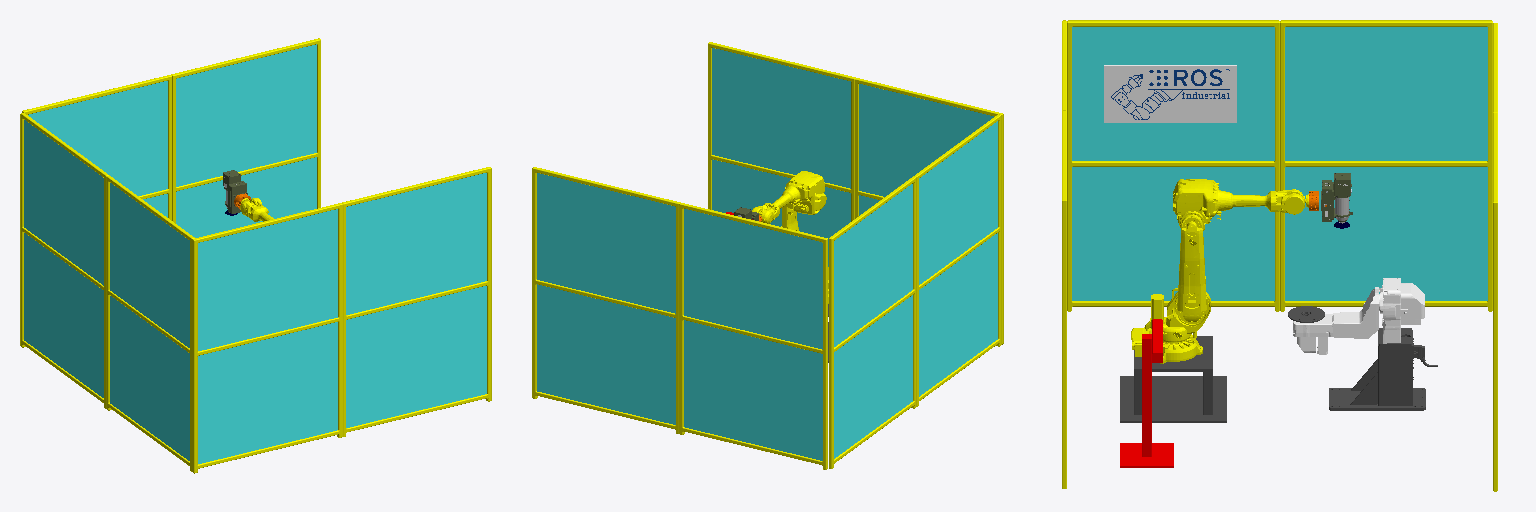
--- What the picture shows (computed from the rendered views, not written in the file) ---
The picture shows the robot from 3 angles, left to right: view 1: azimuth 30°, elevation 25°; view 2: azimuth 150°, elevation 25°; view 3: azimuth 270°, elevation 25°; orthographic projection.
Model tesseract_workcell_positioner with 51 links and 50 joints (8 revolute, 1 prismatic, 41 fixed), rooted at world, posed every joint at zero.
Visible links, largest first — view 1: fence_panel3_base_link, fence_panel5_base_link, fence_panel6_base_link, fence_panel1_base_link, fence_panel2_base_link, fence_panel4_base_link; view 2: fence_panel4_base_link, fence_panel6_base_link, fence_panel5_base_link, fence_panel2_base_link, fence_panel1_base_link, fence_panel3_base_link, robot_link_3, robot_link_4; view 3: fence_panel2_base_link, fence_panel1_base_link, logo_base_link, positioner_base_link, pedestal_base_link, ati_stand_base_link, robot_link_2, positioner_link_1, robot_link_3, fence_panel5_base_link, fence_panel6_base_link, robot_link_1 (+3 smaller).
Link boxes in pixels (x1,y1,x2,y2): fence_panel3_base_link: (192,203,342,473); fence_panel5_base_link: (342,167,491,436); fence_panel6_base_link: (171,38,320,237); fence_panel1_base_link: (106,175,194,471); fence_panel2_base_link: (20,113,108,408); fence_panel4_base_link: (22,75,171,220); fence_panel4_base_link: (679,203,827,469); fence_panel6_base_link: (532,167,680,433); fence_panel5_base_link: (708,42,855,266); fence_panel2_base_link: (829,176,916,468); fence_panel1_base_link: (914,114,1000,406); fence_panel3_base_link: (855,78,1003,344); robot_link_3: (785,171,826,214); robot_link_4: (752,190,794,223); fence_panel2_base_link: (1280,20,1492,311); fence_panel1_base_link: (1067,20,1279,311); logo_base_link: (1104,65,1236,122); positioner_base_link: (1329,278,1437,410); pedestal_base_link: (1120,336,1226,422); ati_stand_base_link: (1120,319,1173,467); robot_link_2: (1177,215,1206,325); positioner_link_1: (1293,287,1379,354); robot_link_3: (1173,179,1226,230); fence_panel5_base_link: (1062,110,1066,488); fence_panel6_base_link: (1493,113,1497,491); robot_link_1: (1145,288,1211,343).
Bounding box of the posed robot: 4.05 × 4.1 × 3 m (x, y, z).
Meshes: 23 distinct files referenced, 25 mesh visuals loaded (20 Collada DAE); not drawn: 4 (reference not matched to a file when rendering).

URDF robot description (tesseract_workcell_positioner):
<?xml version="1.0" ?>
<!-- =================================================================================== -->
<!-- |    This document was autogenerated by xacro from workcell_positioner.xacro      | -->
<!-- |    EDITING THIS FILE BY HAND IS NOT RECOMMENDED                                 | -->
<!-- =================================================================================== -->
<robot name="tesseract_workcell_positioner">
  <!-- link list -->
  <link name="ati_qc110m_base_link">
    <visual>
      <origin rpy="0 0 0" xyz="0 0 0"/>
      <geometry>
        <mesh filename="package://twc_support/CAD/eoat/ati_qc110m/urdf/visual/base_link.dae"/>
      </geometry>
    </visual>
    <collision>
      <origin rpy="0 0 0" xyz="0 0 0"/>
      <geometry>
        <mesh filename="package://twc_support/CAD/eoat/ati_qc110m/urdf/visual/base_link.dae"/>
      </geometry>
    </collision>
  </link>
  <link name="ati_qc110m_tool0"/>
  <!-- end of link list -->
  <!-- joint list -->
  <joint name="ati_qc110m_base_link_tool0" type="fixed">
    <origin rpy="0 0 0" xyz="0 0 0.05537"/>
    <parent link="ati_qc110m_base_link"/>
    <child link="ati_qc110m_tool0"/>
  </joint>
  <!-- end of joint list -->
  <!-- link list -->
  <link name="ati_qc110f_base_link">
    <visual>
      <origin rpy="0 0 0" xyz="0 0 0"/>
      <geometry>
        <mesh filename="package://twc_support/CAD/eoat/ati_qc110f/urdf/visual/base_link.dae"/>
      </geometry>
    </visual>
    <collision>
      <origin rpy="0 0 0" xyz="0 0 0"/>
      <geometry>
        <mesh filename="package://twc_support/CAD/eoat/ati_qc110f/urdf/visual/base_link.dae"/>
      </geometry>
    </collision>
  </link>
  <link name="ati_qc110f_tool0"/>
  <!-- end of link list -->
  <!-- joint list -->
  <joint name="ati_qc110f_base_link_tool0" type="fixed">
    <origin rpy="0 0 0" xyz="0 0 0.03754"/>
    <parent link="ati_qc110f_base_link"/>
    <child link="ati_qc110f_tool0"/>
  </joint>
  <!-- end of joint list -->
  <!-- link list -->
  <link name="ati_stand_base_link">
    <visual>
      <origin rpy="0 0 0" xyz="0 0 0"/>
      <geometry>
        <mesh filename="package://twc_support/CAD/eoat/ati_9120_stand/urdf/visual/base_link.dae"/>
      </geometry>
    </visual>
    <collision>
      <origin rpy="0 0 0" xyz="0 0 0"/>
      <geometry>
        <mesh filename="package://twc_support/CAD/eoat/ati_9120_stand/urdf/visual/base_link.dae"/>
      </geometry>
    </collision>
  </link>
  <link name="ati_stand_tool0"/>
  <link name="ati_stand_tool1"/>
  <!-- end of link list -->
  <!-- joint list -->
  <joint name="ati_stand_base_link_tool0" type="fixed">
    <origin rpy="0 1.5708 0" xyz="0.150 0.275 1.2"/>
    <parent link="ati_stand_base_link"/>
    <child link="ati_stand_tool0"/>
  </joint>
  <joint name="ati_stand_base_link_tool1" type="fixed">
    <origin rpy="0 1.5708 0" xyz="0.150 -0.275 1.2"/>
    <parent link="ati_stand_base_link"/>
    <child link="ati_stand_tool1"/>
  </joint>
  <!-- end of joint list -->
  <!-- link list -->
  <link name="ati_dock1_base_link">
    <visual>
      <origin rpy="0 0 0" xyz="0 0 0"/>
      <geometry>
        <mesh filename="package://twc_support/CAD/eoat/ati_9120_tsm_mmb_8432/urdf/visual/base_link.dae"/>
      </geometry>
    </visual>
    <collision>
      <origin rpy="0 0 0" xyz="0 0 0"/>
      <geometry>
        <mesh filename="package://twc_support/CAD/eoat/ati_9120_tsm_mmb_8432/urdf/visual/base_link.dae"/>
      </geometry>
    </collision>
  </link>
  <link name="ati_dock1_tool0"/>
  <!-- end of link list -->
  <!-- joint list -->
  <joint name="ati_dock1_base_link_tool0" type="fixed">
    <origin rpy="0 0 0" xyz="0 0.05398 0.01524"/>
    <parent link="ati_dock1_base_link"/>
    <child link="ati_dock1_tool0"/>
  </joint>
  <!-- end of joint list -->
  <!-- link list -->
  <link name="ati_dock2_base_link">
    <visual>
      <origin rpy="0 0 0" xyz="0 0 0"/>
      <geometry>
        <mesh filename="package://twc_support/CAD/eoat/ati_9120_tsm_mmb_8432/urdf/visual/base_link.dae"/>
      </geometry>
    </visual>
    <collision>
      <origin rpy="0 0 0" xyz="0 0 0"/>
      <geometry>
        <mesh filename="package://twc_support/CAD/eoat/ati_9120_tsm_mmb_8432/urdf/visual/base_link.dae"/>
      </geometry>
    </collision>
  </link>
  <link name="ati_dock2_tool0"/>
  <!-- end of link list -->
  <!-- joint list -->
  <joint name="ati_dock2_base_link_tool0" type="fixed">
    <origin rpy="0 0 0" xyz="0 0.05398 0.01524"/>
    <parent link="ati_dock2_base_link"/>
    <child link="ati_dock2_tool0"/>
  </joint>
  <!-- end of joint list -->
  <!-- link list -->
  <link name="ati_dock_base_link">
    <visual>
      <origin rpy="0 0 0" xyz="0 0 0"/>
      <geometry>
        <mesh filename="package://twc_support/CAD/eoat/ati_9120_tsm_hbq_9224/urdf/visual/base_link.dae"/>
      </geometry>
    </visual>
    <collision>
      <origin rpy="0 0 0" xyz="0 0 0"/>
      <geometry>
        <mesh filename="package://twc_support/CAD/eoat/ati_9120_tsm_hbq_9224/urdf/visual/base_link.dae"/>
      </geometry>
    </collision>
  </link>
  <link name="ati_dock_tool0"/>
  <!-- end of link list -->
  <!-- joint list -->
  <joint name="ati_dock_base_link_tool0" type="fixed">
    <origin rpy="0 0 0" xyz="0 0 0.01778"/>
    <parent link="ati_dock_base_link"/>
    <child link="ati_dock_tool0"/>
  </joint>
  <!-- end of joint list -->
  <!-- link list -->
  <link name="pushcorp_afd620_base_link">
    <visual>
      <origin rpy="0 0 0" xyz="0 0 0"/>
      <geometry>
        <mesh filename="package://twc_support/CAD/eoat/pushcorp_afd620/urdf/visual/base_link.dae"/>
      </geometry>
    </visual>
    <collision>
      <origin rpy="0 0 0" xyz="0 0 0"/>
      <geometry>
        <mesh filename="package://twc_support/CAD/eoat/pushcorp_afd620/urdf/visual/base_link.dae"/>
      </geometry>
    </collision>
  </link>
  <link name="pushcorp_afd620_link_1">
    <visual>
      <origin rpy="0 0 0" xyz="0 0 0"/>
      <geometry>
        <mesh filename="package://twc_support/CAD/eoat/pushcorp_afd620/urdf/visual/link_1.dae"/>
      </geometry>
    </visual>
    <collision>
      <origin rpy="0 0 0" xyz="0 0 0"/>
      <geometry>
        <mesh filename="package://twc_support/CAD/eoat/pushcorp_afd620/urdf/visual/link_1.dae"/>
      </geometry>
    </collision>
  </link>
  <link name="pushcorp_afd620_tool0"/>
  <!-- end of link list -->
  <!-- joint list -->
  <joint name="pushcorp_afd620_joint_1" type="prismatic">
    <origin rpy="0 0 0" xyz="0 0 0.08471"/>
    <parent link="pushcorp_afd620_base_link"/>
    <child link="pushcorp_afd620_link_1"/>
    <axis xyz="1 0 0"/>
    <limit effort="0" lower="-0.0254" upper="0.0254" velocity="1.4834"/>
  </joint>
  <joint name="pushcorp_afd620_joint_1_tool0" type="fixed">
    <origin rpy="0 0 0" xyz="0 0 0.03747"/>
    <parent link="pushcorp_afd620_link_1"/>
    <child link="pushcorp_afd620_tool0"/>
  </joint>
  <!-- end of joint list -->
  <!-- link list -->
  <link name="pushcorp_stc1015_base_link">
    <visual>
      <origin rpy="0 0 0" xyz="0 0 0"/>
      <geometry>
        <mesh filename="package://twc_support/CAD/eoat/pushcorp_stc1015/urdf/visual/base_link.dae"/>
      </geometry>
    </visual>
    <collision>
      <origin rpy="0 0 0" xyz="0 0 0"/>
      <geometry>
        <mesh filename="package://twc_support/CAD/eoat/pushcorp_stc1015/urdf/visual/base_link.dae"/>
      </geometry>
    </collision>
  </link>
  <link name="pushcorp_stc1015_tool0"/>
  <!-- end of link list -->
  <!-- joint list -->
  <joint name="pushcorp_stc1015_joint_tool0" type="fixed">
    <origin rpy="0 1.57 0" xyz="0.225 0 0.081695"/>
    <parent link="pushcorp_stc1015_base_link"/>
    <child link="pushcorp_stc1015_tool0"/>
  </joint>
  <!-- end of joint list -->
  <!-- link list -->
  <link name="positioner_base_link">
    <visual>
      <origin rpy="0 0 0" xyz="0 0 0"/>
      <geometry>
        <mesh filename="package://twc_support/CAD/robot/abb_irbpa250_d1000/urdf/visual/base_link.dae"/>
      </geometry>
    </visual>
    <collision>
      <origin rpy="0 0 0" xyz="0 0 0"/>
      <geometry>
        <mesh filename="package://twc_support/CAD/robot/abb_irbpa250_d1000/urdf/visual/base_link.dae"/>
      </geometry>
    </collision>
  </link>
  <link name="positioner_link_1">
    <visual>
      <origin rpy="0 0 0" xyz="0 0 0"/>
      <geometry>
        <mesh filename="package://twc_support/CAD/robot/abb_irbpa250_d1000/urdf/visual/link_1.dae"/>
      </geometry>
    </visual>
    <collision>
      <origin rpy="0 0 0" xyz="0 0 0"/>
      <geometry>
        <mesh filename="package://twc_support/CAD/robot/abb_irbpa250_d1000/urdf/visual/link_1.dae"/>
      </geometry>
    </collision>
  </link>
  <link name="positioner_link_2">
    <visual>
      <origin rpy="0 0 0" xyz="0 0 0"/>
      <geometry>
        <mesh filename="package://twc_support/CAD/robot/abb_irbpa250_d1000/urdf/visual/link_2.dae"/>
      </geometry>
    </visual>
    <collision>
      <origin rpy="0 0 0" xyz="0 0 0"/>
      <geometry>
        <mesh filename="package://twc_support/CAD/robot/abb_irbpa250_d1000/urdf/visual/link_2.dae"/>
      </geometry>
    </collision>
  </link>
  <link name="positioner_tool0"/>
  <!-- end of link list -->
  <!-- joint list -->
  <joint name="positioner_base_joint" type="revolute">
    <origin rpy="0 0 0" xyz="0.733 0 1.020"/>
    <parent link="positioner_base_link"/>
    <child link="positioner_link_1"/>
    <axis xyz="1 0 0"/>
    <limit effort="0" lower="-6.28319" upper="6.28319" velocity="1.4834"/>
  </joint>
  <joint name="positioner_joint_1" type="revolute">
    <origin rpy="0 0 0" xyz="-0.733 0 0"/>
    <parent link="positioner_link_1"/>
    <child link="positioner_link_2"/>
    <axis xyz="0 0 1"/>
    <limit effort="0" lower="-6.28319" upper="6.28319" velocity="1.4834"/>
  </joint>
  <joint name="positioner_joint_2_tool0" type="fixed">
    <origin rpy="0 0 0" xyz="0 0 0.10487"/>
    <parent link="positioner_link_2"/>
    <child link="positioner_tool0"/>
  </joint>
  <!-- end of joint list -->
  <!-- link list -->
  <link name="st_base_link">
    <visual>
      <origin rpy="0 0 0" xyz="0 0 0"/>
      <geometry>
        <mesh filename="package://twc_support/CAD/eoat/bt30_sander/urdf/visual/base_link.dae"/>
      </geometry>
    </visual>
    <collision>
      <origin rpy="0 0 0" xyz="0 0 0"/>
      <geometry>
        <mesh filename="package://twc_support/CAD/eoat/bt30_sander/urdf/visual/base_link.dae"/>
      </geometry>
    </collision>
  </link>
  <link name="st_tool0"/>
  <!-- end of link list -->
  <!-- joint list -->
  <joint name="st_joint_tool0" type="fixed">
    <origin rpy="0 0 0" xyz="0 0 0.07328"/>
    <parent link="st_base_link"/>
    <child link="st_tool0"/>
  </joint>
  <!-- end of joint list -->
  <!-- link list -->
  <link name="robot_base_link">
    <collision name="collision">
      <geometry>
        <mesh filename="package://twc_support/CAD/robot/abb_irb4600_60_205/urdf/collision/base_link.stl"/>
      </geometry>
    </collision>
    <visual name="visual">
      <geometry>
        <mesh filename="package://twc_support/CAD/robot/abb_irb4600_60_205/urdf/visual/base_link.dae"/>
      </geometry>
      <material name="yellow">
        <color rgba="1 1 0 1"/>
      </material>
    </visual>
  </link>
  <link name="robot_link_1">
    <collision name="collision">
      <geometry>
        <mesh filename="package://twc_support/CAD/robot/abb_irb4600_60_205/urdf/collision/link_1.stl"/>
      </geometry>
    </collision>
    <visual name="visual">
      <geometry>
        <mesh filename="package://twc_support/CAD/robot/abb_irb4600_60_205/urdf/visual/link_1.dae"/>
      </geometry>
      <material name="yellow"/>
    </visual>
  </link>
  <link name="robot_link_2">
    <collision name="collision">
      <geometry>
        <mesh filename="package://twc_support/CAD/robot/abb_irb4600_60_205/urdf/collision/link_2.stl"/>
      </geometry>
    </collision>
    <visual name="visual">
      <geometry>
        <mesh filename="package://twc_support/CAD/robot/abb_irb4600_60_205/urdf/visual/link_2.dae"/>
      </geometry>
      <material name="yellow"/>
    </visual>
  </link>
  <link name="robot_link_3">
    <collision name="collision">
      <geometry>
        <mesh filename="package://twc_support/CAD/robot/abb_irb4600_60_205/urdf/collision/link_3.stl"/>
      </geometry>
    </collision>
    <visual name="visual">
      <geometry>
        <mesh filename="package://twc_support/CAD/robot/abb_irb4600_60_205/urdf/visual/link_3.dae"/>
      </geometry>
      <material name="yellow"/>
    </visual>
  </link>
  <link name="robot_link_4">
    <collision name="collision">
      <geometry>
        <mesh filename="package://twc_support/CAD/robot/abb_irb4600_60_205/urdf/collision/link_4.stl"/>
      </geometry>
    </collision>
    <visual name="visual">
      <geometry>
        <mesh filename="package://twc_support/CAD/robot/abb_irb4600_60_205/urdf/visual/link_4.dae"/>
      </geometry>
      <material name="yellow"/>
    </visual>
  </link>
  <link name="robot_link_5">
    <collision name="collision">
      <geometry>
        <mesh filename="package://twc_support/CAD/robot/abb_irb4600_60_205/urdf/collision/link_5.stl"/>
      </geometry>
    </collision>
    <visual name="visual">
      <geometry>
        <mesh filename="package://twc_support/CAD/robot/abb_irb4600_60_205/urdf/visual/link_5.dae"/>
      </geometry>
      <material name="yellow"/>
    </visual>
  </link>
  <link name="robot_link_6">
    <collision name="collision">
      <geometry>
        <mesh filename="package://twc_support/CAD/robot/abb_irb4600_60_205/urdf/collision/link_6.stl"/>
      </geometry>
    </collision>
    <visual name="visual">
      <geometry>
        <mesh filename="package://twc_support/CAD/robot/abb_irb4600_60_205/urdf/visual/link_6.dae"/>
      </geometry>
      <material name="yellow"/>
    </visual>
  </link>
  <link name="robot_tool0"/>
  <!-- end of link list -->
  <!-- joint list -->
  <joint name="robot_joint_1" type="revolute">
    <origin rpy="0 0 0" xyz="0 0 0.495"/>
    <axis xyz="0 0 1"/>
    <parent link="robot_base_link"/>
    <child link="robot_link_1"/>
    <limit effort="0" lower="-3.141" upper="3.141" velocity="3.054"/>
  </joint>
  <joint name="robot_joint_2" type="revolute">
    <origin rpy="0 0 0" xyz="0.175 0 0"/>
    <axis xyz="0 1 0"/>
    <parent link="robot_link_1"/>
    <child link="robot_link_2"/>
    <limit effort="0" lower="-1.570" upper="2.617" velocity="3.054"/>
  </joint>
  <joint name="robot_joint_3" type="revolute">
    <origin rpy="0 0 0" xyz="0 0 0.9"/>
    <axis xyz="0 1 0"/>
    <parent link="robot_link_2"/>
    <child link="robot_link_3"/>
    <limit effort="0" lower="-3.141" upper="1.308" velocity="3.054"/>
  </joint>
  <joint name="robot_joint_4" type="revolute">
    <origin rpy="0 0 0" xyz="0 0 0.175"/>
    <axis xyz="1 0 0"/>
    <parent link="robot_link_3"/>
    <child link="robot_link_4"/>
    <limit effort="0" lower="-6.981" upper="6.981" velocity="4.363"/>
  </joint>
  <joint name="robot_joint_5" type="revolute">
    <origin rpy="0 0 0" xyz="0.960 0 0 "/>
    <axis xyz="0 1 0"/>
    <parent link="robot_link_4"/>
    <child link="robot_link_5"/>
    <limit effort="0" lower="-2.181" upper="2.094" velocity="4.363"/>
  </joint>
  <joint name="robot_joint_6" type="revolute">
    <origin rpy="0 0 0" xyz="0 0 0 "/>
    <axis xyz="1 0 0"/>
    <parent link="robot_link_5"/>
    <child link="robot_link_6"/>
    <limit effort="0" lower="-6.981" upper="6.981" velocity="6.283"/>
  </joint>
  <joint name="robot_joint_6-tool0" type="fixed">
    <parent link="robot_link_6"/>
    <child link="robot_tool0"/>
    <origin rpy="0 1.57079632679 0" xyz="0.135 0 0"/>
  </joint>
  <!-- end of joint list -->
  <!-- ROS base_link to ABB World Coordinates transform -->
  <link name="robot_base"/>
  <joint name="robot_base_link-base" type="fixed">
    <origin rpy="0 0 0" xyz="0 0 0"/>
    <parent link="robot_base_link"/>
    <child link="robot_base"/>
  </joint>
  <!-- link list -->
  <link name="pedestal_base_link">
    <visual>
      <origin rpy="0 0 0" xyz="0 0 0"/>
      <geometry>
        <mesh filename="package://twc_support/CAD/pedestal/pedestal_750mm/urdf/visual/base_link.dae"/>
      </geometry>
    </visual>
    <collision>
      <origin rpy="0 0 0" xyz="0 0 0"/>
      <geometry>
        <mesh filename="package://twc_support/CAD/pedestal/pedestal_750mm/urdf/visual/base_link.dae"/>
      </geometry>
    </collision>
  </link>
  <link name="pedestal_tool0"/>
  <!-- end of link list -->
  <!-- joint list -->
  <joint name="pedestal_base_link_tool0" type="fixed">
    <origin rpy="0 0 0" xyz="0 0 0.5"/>
    <parent link="pedestal_base_link"/>
    <child link="pedestal_tool0"/>
  </joint>
  <!-- end of joint list -->
  <!-- link list -->
  <link name="fence_panel1_base_link">
    <visual>
      <origin rpy="0 0 0" xyz="0 0 0"/>
      <geometry>
        <mesh filename="package://twc_support/CAD/fence/panel_3m_2m_solid/urdf/visual/base_link.dae"/>
      </geometry>
    </visual>
    <collision>
      <origin rpy="0 0 0" xyz="0 0 0"/>
      <geometry>
        <mesh filename="package://twc_support/CAD/fence/panel_3m_2m_solid/urdf/visual/base_link.dae"/>
      </geometry>
    </collision>
  </link>
  <link name="fence_panel1_tool0"/>
  <joint name="fence_panel1_joint_1" type="fixed">
    <origin rpy="0 0 0" xyz="2.0 0 0"/>
    <parent link="fence_panel1_base_link"/>
    <child link="fence_panel1_tool0"/>
  </joint>
  <!-- link list -->
  <link name="fence_panel2_base_link">
    <visual>
      <origin rpy="0 0 0" xyz="0 0 0"/>
      <geometry>
        <mesh filename="package://twc_support/CAD/fence/panel_3m_2m_solid/urdf/visual/base_link.dae"/>
      </geometry>
    </visual>
    <collision>
      <origin rpy="0 0 0" xyz="0 0 0"/>
      <geometry>
        <mesh filename="package://twc_support/CAD/fence/panel_3m_2m_solid/urdf/visual/base_link.dae"/>
      </geometry>
    </collision>
  </link>
  <link name="fence_panel2_tool0"/>
  <joint name="fence_panel2_joint_1" type="fixed">
    <origin rpy="0 0 0" xyz="2.0 0 0"/>
    <parent link="fence_panel2_base_link"/>
    <child link="fence_panel2_tool0"/>
  </joint>
  <!-- link list -->
  <link name="fence_panel3_base_link">
    <visual>
      <origin rpy="0 0 0" xyz="0 0 0"/>
      <geometry>
        <mesh filename="package://twc_support/CAD/fence/panel_3m_2m_solid/urdf/visual/base_link.dae"/>
      </geometry>
    </visual>
    <collision>
      <origin rpy="0 0 0" xyz="0 0 0"/>
      <geometry>
        <mesh filename="package://twc_support/CAD/fence/panel_3m_2m_solid/urdf/visual/base_link.dae"/>
      </geometry>
    </collision>
  </link>
  <link name="fence_panel3_tool0"/>
  <joint name="fence_panel3_joint_1" type="fixed">
    <origin rpy="0 0 0" xyz="2.0 0 0"/>
    <parent link="fence_panel3_base_link"/>
    <child link="fence_panel3_tool0"/>
  </joint>
  <!-- link list -->
  <link name="fence_panel4_base_link">
    <visual>
      <origin rpy="0 0 0" xyz="0 0 0"/>
      <geometry>
        <mesh filename="package://twc_support/CAD/fence/panel_3m_2m_solid/urdf/visual/base_link.dae"/>
      </geometry>
    </visual>
    <collision>
      <origin rpy="0 0 0" xyz="0 0 0"/>
      <geometry>
        <mesh filename="package://twc_support/CAD/fence/panel_3m_2m_solid/urdf/visual/base_link.dae"/>
      </geometry>
    </collision>
  </link>
  <link name="fence_panel4_tool0"/>
  <joint name="fence_panel4_joint_1" type="fixed">
    <origin rpy="0 0 0" xyz="2.0 0 0"/>
    <parent link="fence_panel4_base_link"/>
    <child link="fence_panel4_tool0"/>
  </joint>
  <!-- link list -->
  <link name="fence_panel5_base_link">
    <visual>
      <origin rpy="0 0 0" xyz="0 0 0"/>
      <geometry>
        <mesh filename="package://twc_support/CAD/fence/panel_3m_2m_solid/urdf/visual/base_link.dae"/>
      </geometry>
    </visual>
    <collision>
      <origin rpy="0 0 0" xyz="0 0 0"/>
      <geometry>
        <mesh filename="package://twc_support/CAD/fence/panel_3m_2m_solid/urdf/visual/base_link.dae"/>
      </geometry>
    </collision>
  </link>
  <link name="fence_panel5_tool0"/>
  <joint name="fence_panel5_joint_1" type="fixed">
    <origin rpy="0 0 0" xyz="2.0 0 0"/>
    <parent link="fence_panel5_base_link"/>
    <child link="fence_panel5_tool0"/>
  </joint>
  <!-- link list -->
  <link name="fence_panel6_base_link">
    <visual>
      <origin rpy="0 0 0" xyz="0 0 0"/>
      <geometry>
        <mesh filename="package://twc_support/CAD/fence/panel_3m_2m_solid/urdf/visual/base_link.dae"/>
      </geometry>
    </visual>
    <collision>
      <origin rpy="0 0 0" xyz="0 0 0"/>
      <geometry>
        <mesh filename="package://twc_support/CAD/fence/panel_3m_2m_solid/urdf/visual/base_link.dae"/>
      </geometry>
    </collision>
  </link>
  <link name="fence_panel6_tool0"/>
  <joint name="fence_panel6_joint_1" type="fixed">
    <origin rpy="0 0 0" xyz="2.0 0 0"/>
    <parent link="fence_panel6_base_link"/>
    <child link="fence_panel6_tool0"/>
  </joint>
  <link name="logo_base_link">
    <visual>
      <origin rpy="0 0 0" xyz="-0.125 -0.05 0.01"/>
      <geometry>
        <box size="1.25 0.6 0.02"/>
      </geometry>
      <material name="WhiteLogo">
        <color rgba="1.0 1.0 1.0 1.0"/>
      </material>
    </visual>
    <visual>
      <origin rpy="0 0 0" xyz="0 0 0.02"/>
      <geometry>
        <mesh filename="package://twc_support/CAD/logo/ros_industrial/urdf/visual/ros_industrial_logo.dae"/>
      </geometry>
    </visual>
    <collision>
      <origin rpy="0 0 0" xyz="0 0 0"/>
      <geometry>
        <box size="1 1 0.03"/>
      </geometry>
    </collision>
  </link>
  <!-- link list -->
  <link name="world"/>
  <link name="tool_dock0"/>
  <link name="part_link">
    <visual>
      <origin rpy="0 0 0" xyz="0 0 0"/>
      <geometry>
        <mesh filename="package://twc_support/meshes/fuselage_part.dae"/>
      </geometry>
    </visual>
    <collision>
      <origin rpy="0 0 0" xyz="0 0 0"/>
      <geometry>
        <mesh filename="package://twc_support/meshes/fuselage_part.ply"/>
      </geometry>
    </collision>
  </link>
  <!-- joint list -->
  <joint name="world_positioner_joint" type="fixed">
    <origin rpy="0 0 1.5708" xyz="0 0.25 0"/>
    <parent link="world"/>
    <child link="positioner_base_link"/>
  </joint>
  <joint name="world_pedestal_joint" type="fixed">
    <origin rpy="0 0 1.5708" xyz="0 -1 0"/>
    <parent link="world"/>
    <child link="pedestal_base_link"/>
  </joint>
  <joint name="pedestal_robot_joint" type="fixed">
    <origin rpy="0 0 0" xyz="0 0 0"/>
    <parent link="pedestal_tool0"/>
    <child link="robot_base_link"/>
  </joint>
  <joint name="world_ati_stand_joint" type="fixed">
    <origin rpy="0 0 1.5708" xyz="1.25 -1.25 0"/>
    <parent link="world"/>
    <child link="ati_stand_base_link"/>
  </joint>
  <joint name="ati_stand_dock1_joint" type="fixed">
    <origin rpy="0 0 0" xyz="0 0 0"/>
    <parent link="ati_stand_tool0"/>
    <child link="ati_dock1_base_link"/>
  </joint>
  <joint name="ati_stand_dock2_joint" type="fixed">
    <origin rpy="0 0 0" xyz="0 0 0"/>
    <parent link="ati_stand_tool1"/>
    <child link="ati_dock2_base_link"/>
  </joint>
  <joint name="robot_ati_m_joint" type="fixed">
    <!--      <origin xyz="0 0 0.05" rpy="0 0.785398 3.14159" />-->
    <origin rpy="0 0 0" xyz="0 0 0"/>
    <parent link="robot_tool0"/>
    <child link="ati_qc110m_base_link"/>
  </joint>
  <joint name="world_tool_dock0_joint" type="fixed">
    <origin rpy="-1.5708 -1.5708 -3.14" xyz="-1 -1 1"/>
    <parent link="world"/>
    <child link="tool_dock0"/>
  </joint>
  <!--<joint name="${prefix}tool_dock0_ati_f_joint" type="fixed">
      <origin xyz="0 0 0" rpy="0 0 0" />
      <parent link="${prefix}tool_dock0" />
      <child link="${prefix}ati_f_base_link" />
    </joint>-->
  <joint name="robot_ati_f_joint" type="fixed">
    <origin rpy="0 0 0" xyz="0 0 0"/>
    <parent link="ati_qc110m_tool0"/>
    <child link="ati_qc110f_base_link"/>
  </joint>
  <joint name="ati_m_pushcorp_ati_dock_joint" type="fixed">
    <origin rpy="0 0 0" xyz="0 0 0"/>
    <parent link="ati_qc110f_tool0"/>
    <child link="ati_dock_base_link"/>
  </joint>
  <joint name="ati_dock_pushcorp_afd_joint" type="fixed">
    <origin rpy="0 0 0" xyz="0 0 0"/>
    <parent link="ati_dock_tool0"/>
    <child link="pushcorp_afd620_base_link"/>
  </joint>
  <joint name="pushcorp_afd_stc_parallel_joint" type="fixed">
    <origin rpy="0 0 0" xyz="0 0 0"/>
    <parent link="pushcorp_afd620_tool0"/>
    <child link="pushcorp_stc1015_base_link"/>
  </joint>
  <joint name="positioner_part_joint" type="fixed">
    <!--      <origin xyz="-0.4 -1.1 -0.2" rpy="0 -0.523599 0" />-->
    <origin rpy="0 0 0" xyz="-0.55 -1.1 0"/>
    <parent link="positioner_tool0"/>
    <child link="part_link"/>
  </joint>
  <joint name="bt30_sander_joint" type="fixed">
    <origin rpy="0 0 0" xyz="0 0 0"/>
    <parent link="pushcorp_stc1015_tool0"/>
    <child link="st_base_link"/>
  </joint>
  <joint name="fence_panel1_joint" type="fixed">
    <origin rpy="0 0 -1.5708" xyz="-2.0 0 0"/>
    <parent link="world"/>
    <child link="fence_panel1_base_link"/>
  </joint>
  <joint name="fence_panel2_joint" type="fixed">
    <origin rpy="0 0 3.14159" xyz="0 0 0"/>
    <parent link="fence_panel1_base_link"/>
    <child link="fence_panel2_base_link"/>
  </joint>
  <joint name="fence_panel3_joint" type="fixed">
    <origin rpy="0 0 1.5708" xyz="0.025 -0.025 0"/>
    <parent link="fence_panel1_tool0"/>
    <child link="fence_panel3_base_link"/>
  </joint>
  <joint name="fence_panel4_joint" type="fixed">
    <origin rpy="0 0 -1.5708" xyz="0.025 -0.025 0"/>
    <parent link="fence_panel2_tool0"/>
    <child link="fence_panel4_base_link"/>
  </joint>
  <joint name="fence_panel5_joint" type="fixed">
    <origin rpy="0 0 0" xyz="0 0 0"/>
    <parent link="fence_panel3_tool0"/>
    <child link="fence_panel5_base_link"/>
  </joint>
  <joint name="fence_panel6_joint" type="fixed">
    <origin rpy="0 0 0" xyz="0 0 0"/>
    <parent link="fence_panel4_tool0"/>
    <child link="fence_panel6_base_link"/>
  </joint>
  <joint name="logo_joint" type="fixed">
    <origin rpy="1.5708 0 3.14159" xyz="0.9 0 2.3"/>
    <parent link="fence_panel1_base_link"/>
    <child link="logo_base_link"/>
  </joint>
  <!-- end of joint list -->
</robot>
